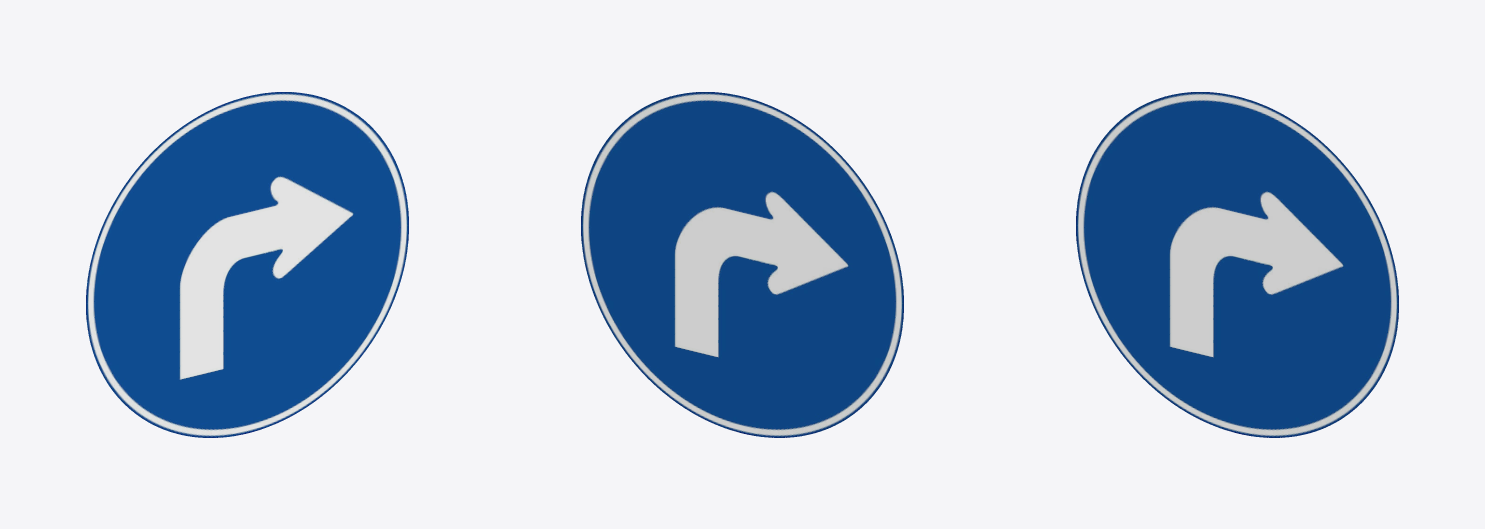
File: right.glb
The picture shows the model from 3 angles, left to right: view 1: azimuth 30°, elevation 25°; view 2: azimuth 150°, elevation 25°; view 3: azimuth 330°, elevation 25°; orthographic projection.
Bounding box in the file's own units: 1 × 1 × 0.
2 materials, 2 textured.
